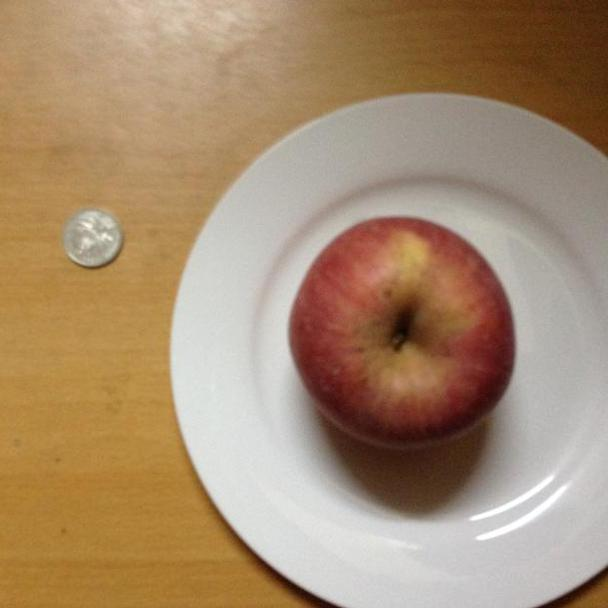apple: (284, 215, 523, 450)
